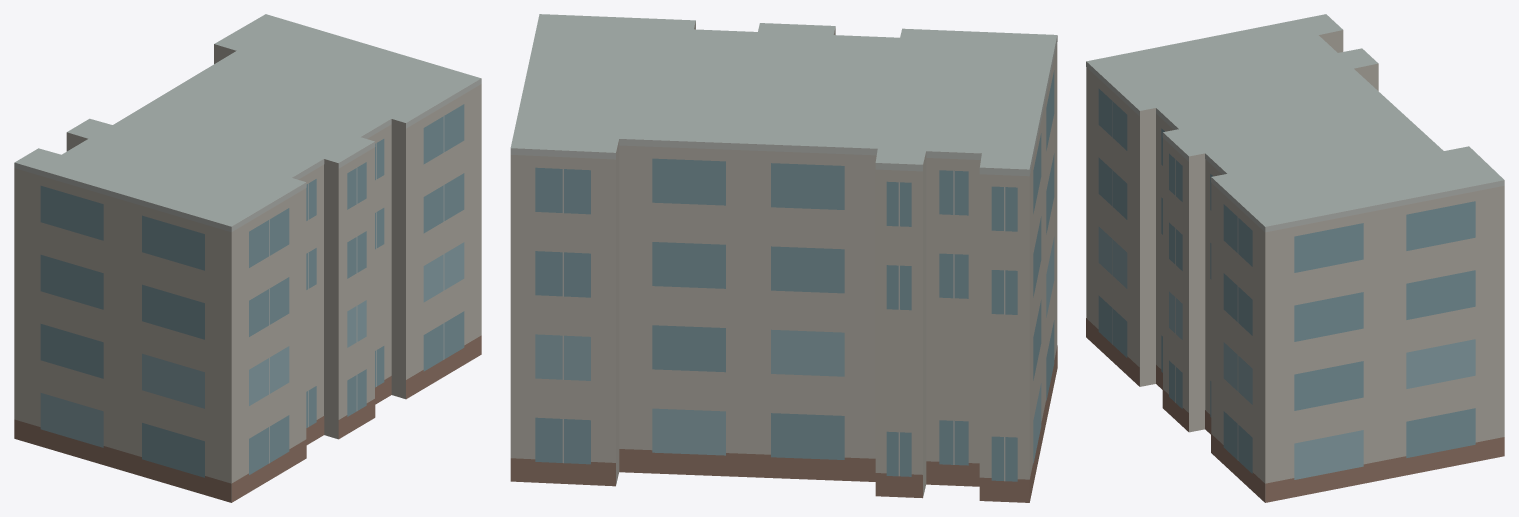
File: survey-upis-32730935.glb
3 renders of one model, left to right at view 1: azimuth 30°, elevation 25°; view 2: azimuth 150°, elevation 25°; view 3: azimuth 270°, elevation 25°, orthographic. The views are drawn at different scales.
Parts seen in each view (by area): view 1: survey-upis-32730935.tmp; view 2: survey-upis-32730935.tmp; view 3: survey-upis-32730935.tmp.
Boxes of the visible parts, x1=… form: survey-upis-32730935.tmp: x1=14, y1=14, x2=481, y2=502; survey-upis-32730935.tmp: x1=510, y1=14, x2=1057, y2=502; survey-upis-32730935.tmp: x1=1086, y1=14, x2=1504, y2=502.
Size of the model in its own units: 20.19 by 12.2 by 16.78.
